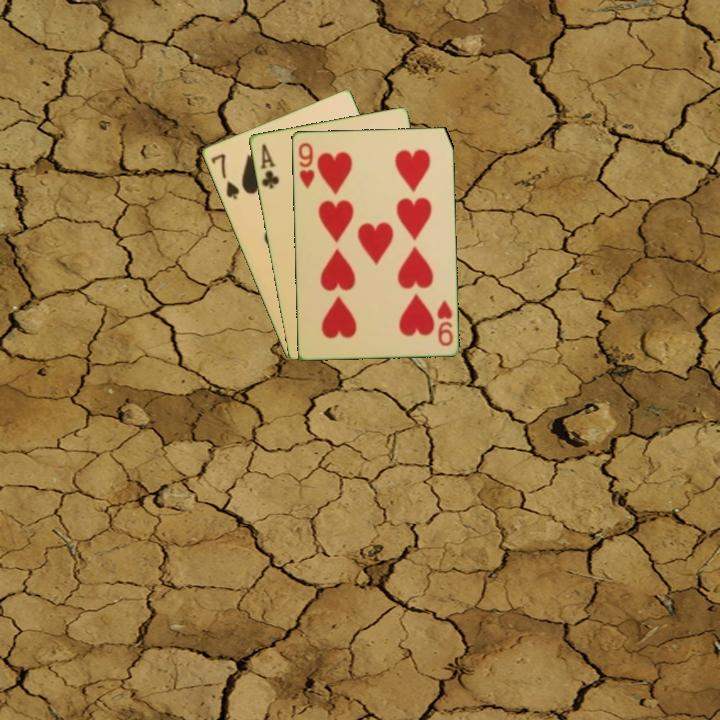7s: (207, 150, 242, 202)
9h: (433, 296, 456, 349), (295, 139, 317, 191)
Ac: (256, 140, 282, 191)
